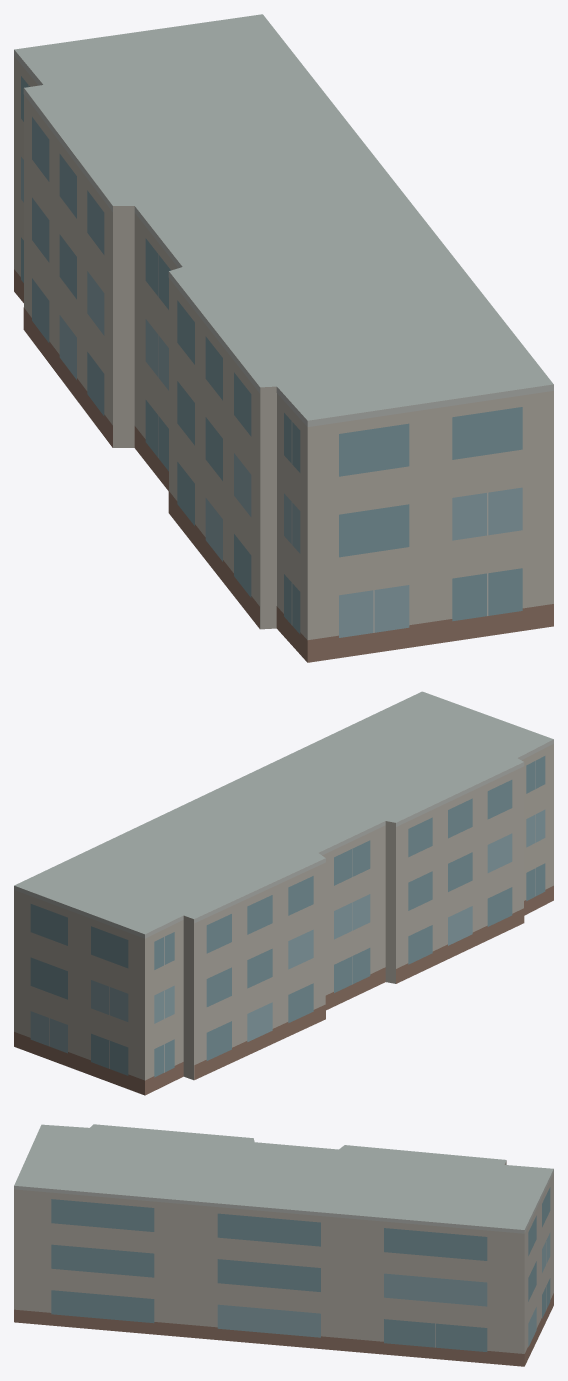
Rendered from survey-upis-32754456.glb.
The picture shows the model from 3 angles, top to bottom: view 1: azimuth 30°, elevation 25°; view 2: azimuth 150°, elevation 25°; view 3: azimuth 270°, elevation 25°; orthographic projection. The views are drawn at different scales.
Visible parts, largest first — view 1: survey-upis-32754456.tmp; view 2: survey-upis-32754456.tmp; view 3: survey-upis-32754456.tmp.
Part boxes in pixels (x1,y1,x2,y2): survey-upis-32754456.tmp: (14, 14, 553, 662); survey-upis-32754456.tmp: (14, 691, 553, 1095); survey-upis-32754456.tmp: (14, 1124, 553, 1366).
Bounding box in the file's own units: 15.22 × 9.15 × 32.78.
